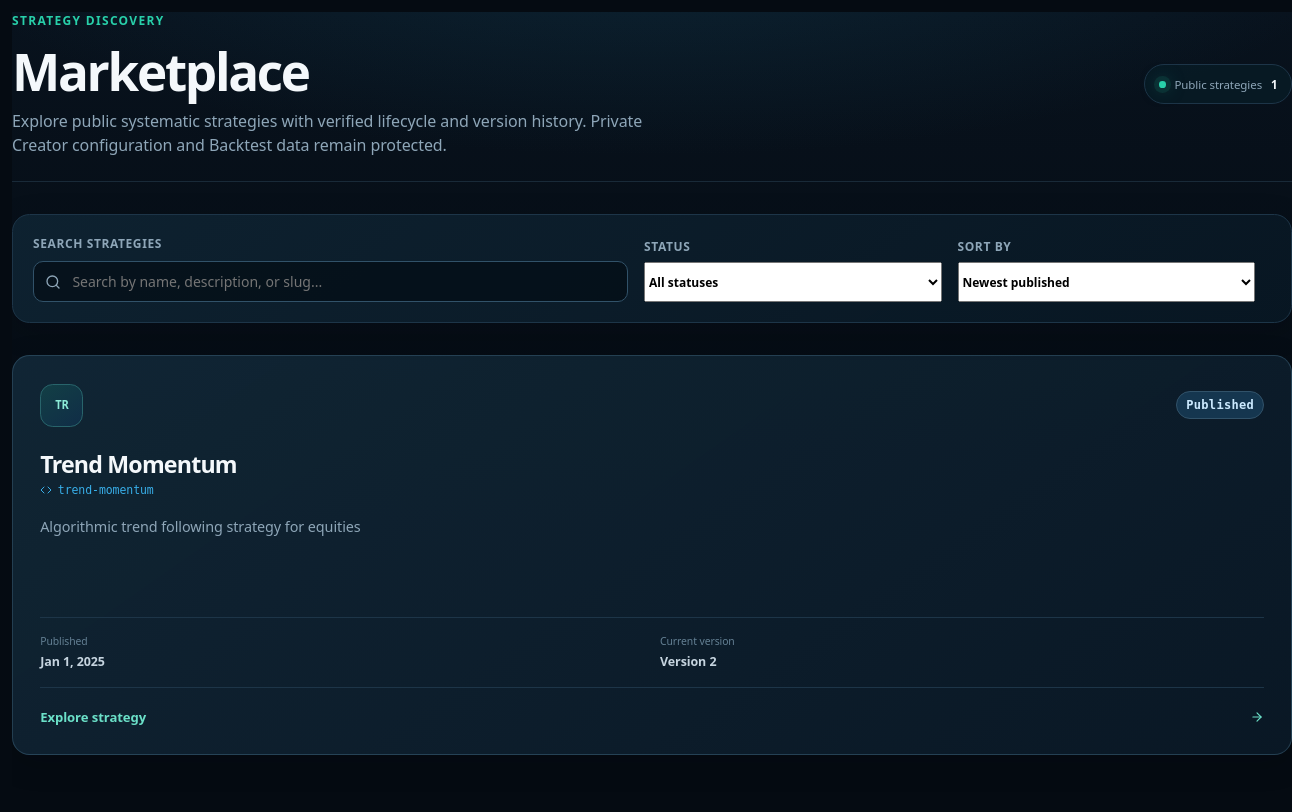
Test case: Marketplace pages › shows empty state when search returns no match and allows resetting filters
expect the heading "Trend Momentum" is shown: met, box [40,451,237,478]
Type "nonexistent" into the search field labelled "Search strategies" at (330, 282), box [33,261,628,302]
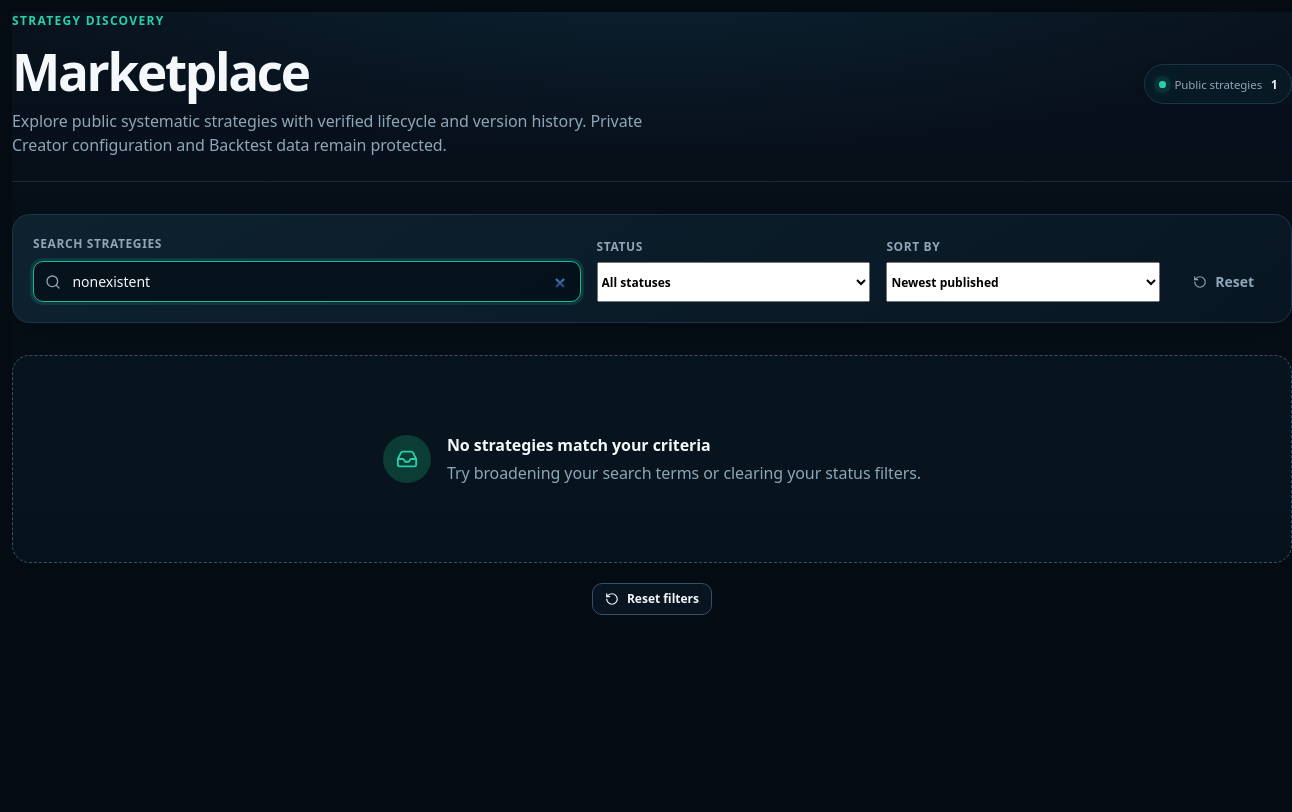
expect the text "No strategies match your criteria" is shown: met, box [447,434,711,456]
Click the button "Reset filters" at (652, 600), box [592,584,712,616]
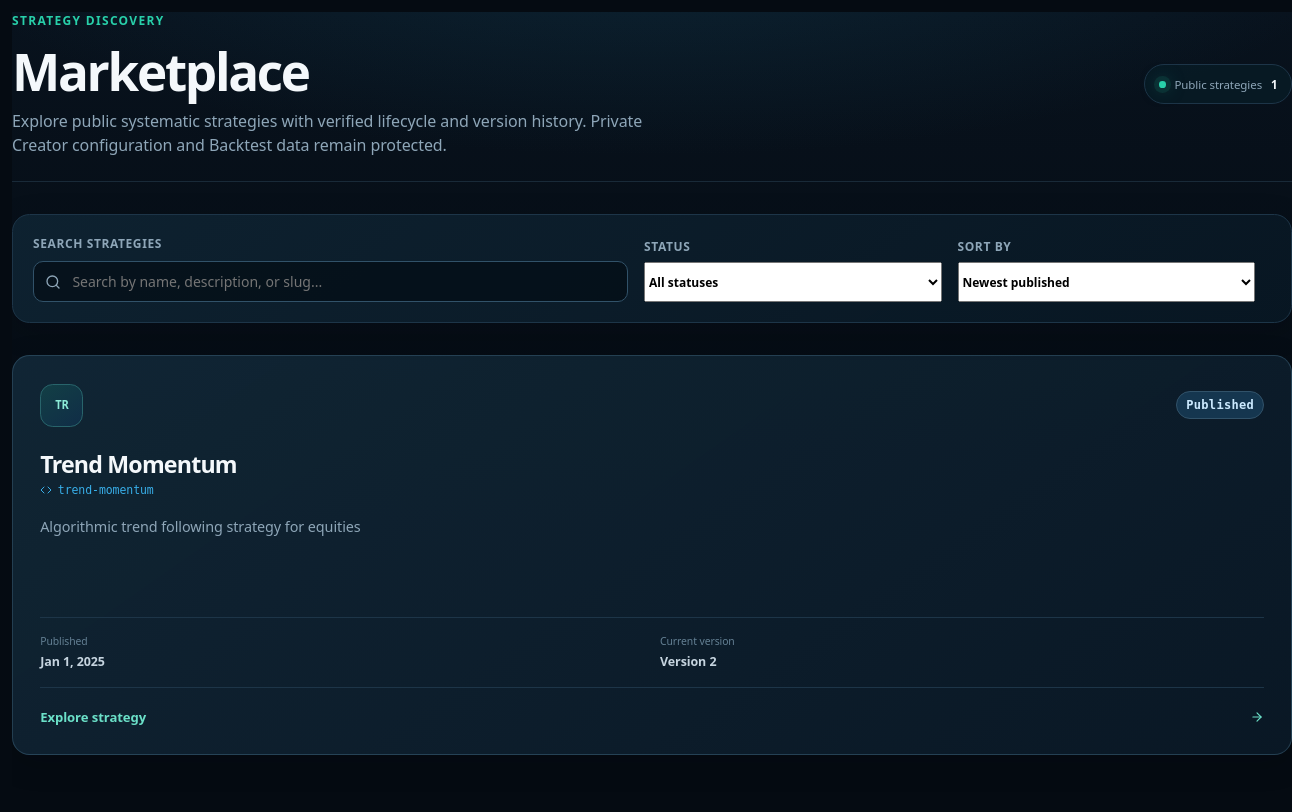
expect the heading "Trend Momentum" is shown: met, box [40,451,237,478]
